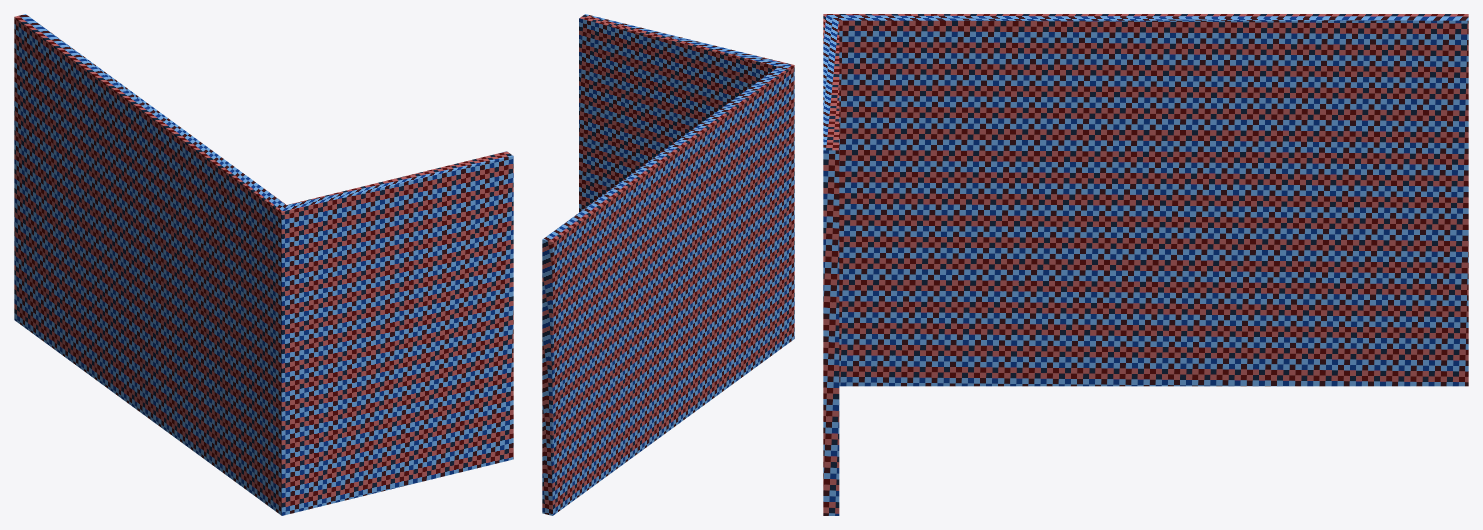
File: Smallwall_turnWithHalf_Turn_01.fbx
3 renders of one model, left to right at view 1: azimuth 30°, elevation 25°; view 2: azimuth 150°, elevation 25°; view 3: azimuth 270°, elevation 25°, orthographic. The views are drawn at different scales.
Parts seen in each view (by area): view 1: Smallwall_turnWithHalf_Turn_01; view 2: Smallwall_turnWithHalf_Turn_01; view 3: Smallwall_turnWithHalf_Turn_01.
Boxes of the visible parts, x1,y1,x2,y2 form: Smallwall_turnWithHalf_Turn_01: (14,14,513,515); Smallwall_turnWithHalf_Turn_01: (542,14,794,515); Smallwall_turnWithHalf_Turn_01: (823,14,1468,515).
Bounding box in the file's own units: 200 × 250 × 400.
1 material, 1 textured.
